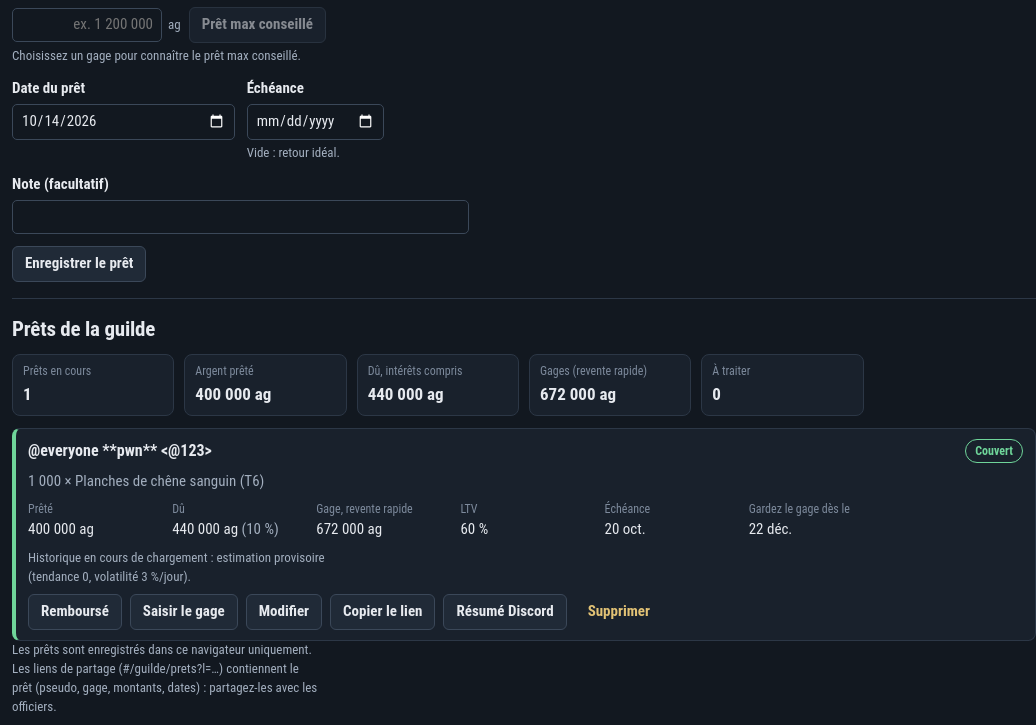
Test: page Prêts sur gage — liste et stockage › résumé Discord neutralisé (@everyone, <@id>, mise en forme)
(page scrolled)
Click the button "Résumé Discord" at {"x": 505, "y": 612}, box x1=444 y1=594 x2=567 y2=630
(page scrolled)
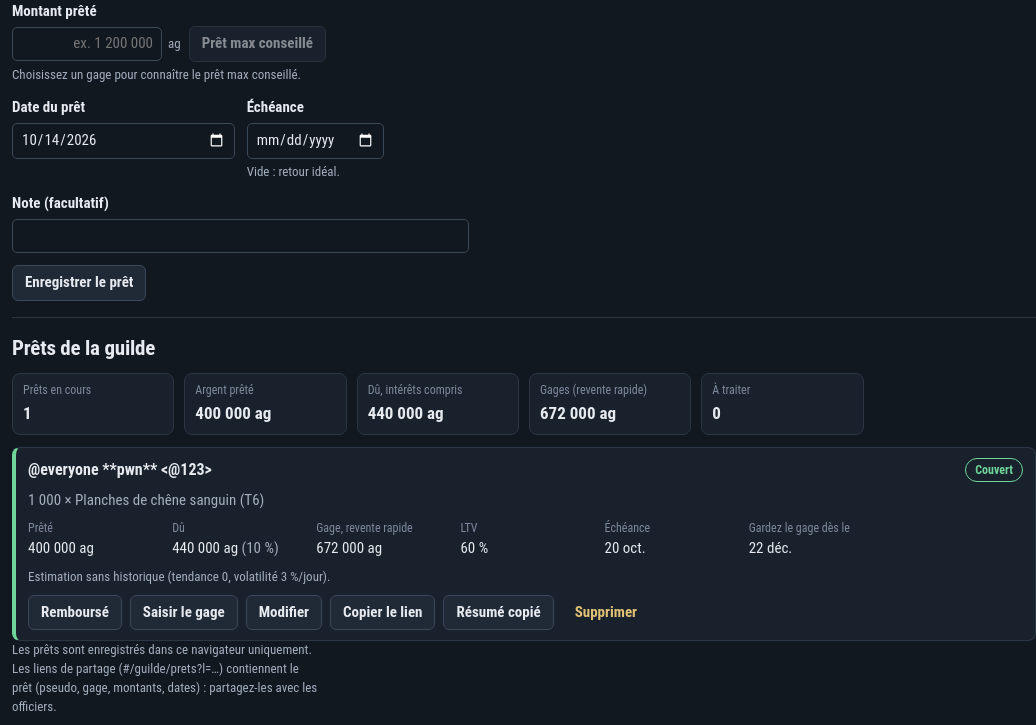
Expected: the button "Résumé copié" is shown, x1=444 y1=595 x2=554 y2=630
